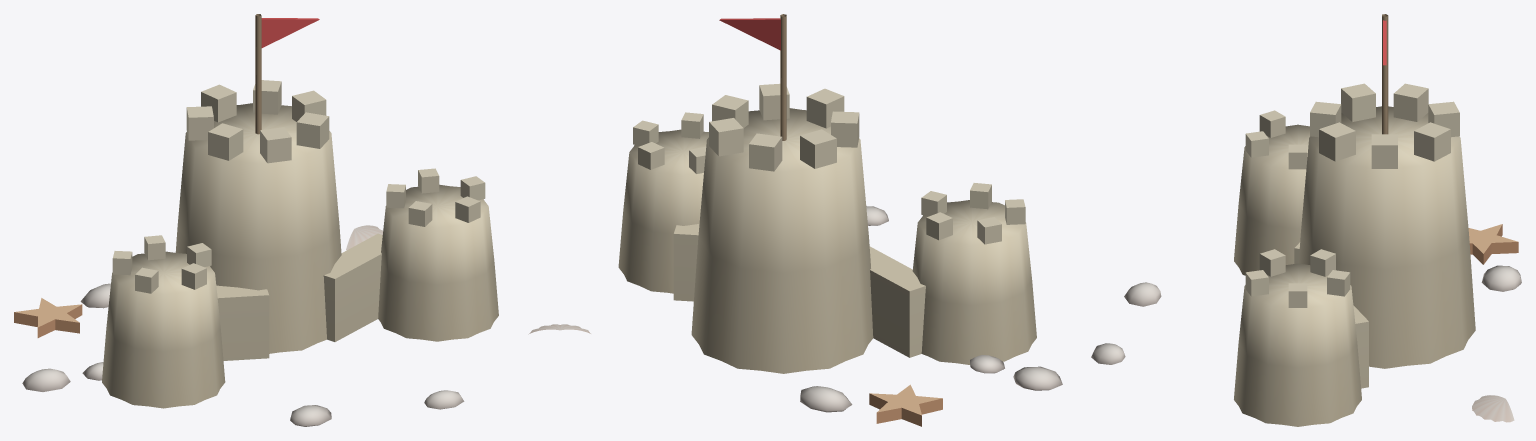
The model's file is beach_sandcastle.glb.
3 views of the same model, side by side, from view 1: azimuth 30°, elevation 25°; view 2: azimuth 150°, elevation 25°; view 3: azimuth 270°, elevation 25° (orthographic). The views are drawn at different scales.
Parts seen in each view (by area): view 1: body; view 2: body; view 3: body.
Boxes of the visible parts, x1,y1,x2,y2 form: body: [14, 14, 498, 426]; body: [528, 14, 1062, 426]; body: [1091, 14, 1521, 426].
Size of the model in its own units: 0.5453 by 0.36 by 0.4461.
